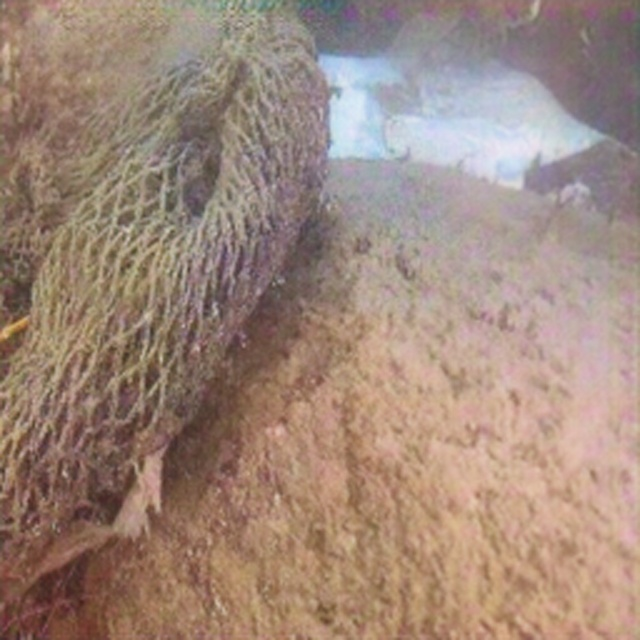mine: (0, 28, 329, 552)
